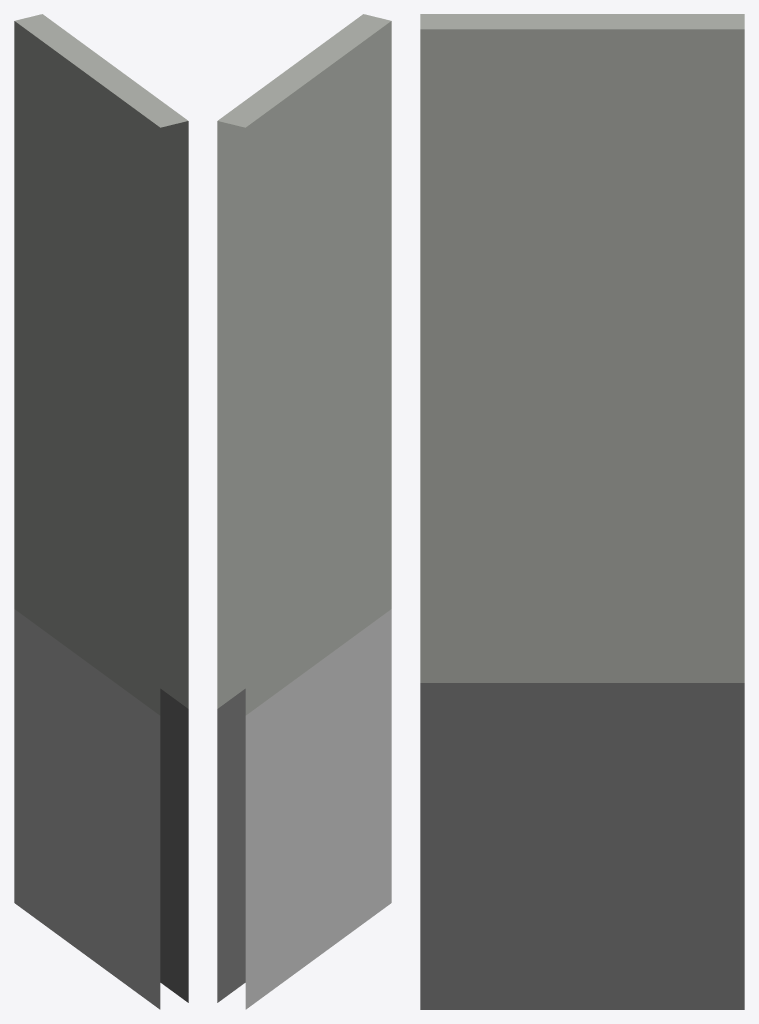
File: SM_Wall_90.fbx
3 renders of one model, left to right at view 1: azimuth 30°, elevation 25°; view 2: azimuth 150°, elevation 25°; view 3: azimuth 270°, elevation 25°, orthographic. The views are drawn at different scales.
Visible parts, largest first — view 1: SM_Wall_90; view 2: SM_Wall_90; view 3: SM_Wall_90.
Part boxes in pixels (x1,y1,x2,y2): SM_Wall_90: (14, 14, 188, 1009); SM_Wall_90: (217, 14, 391, 1009); SM_Wall_90: (420, 14, 744, 1009).
Size of the model in its own units: 10 by 300 by 90.
